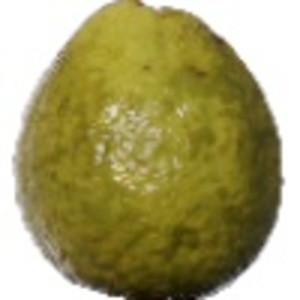goiaba: (11, 5, 285, 298)
